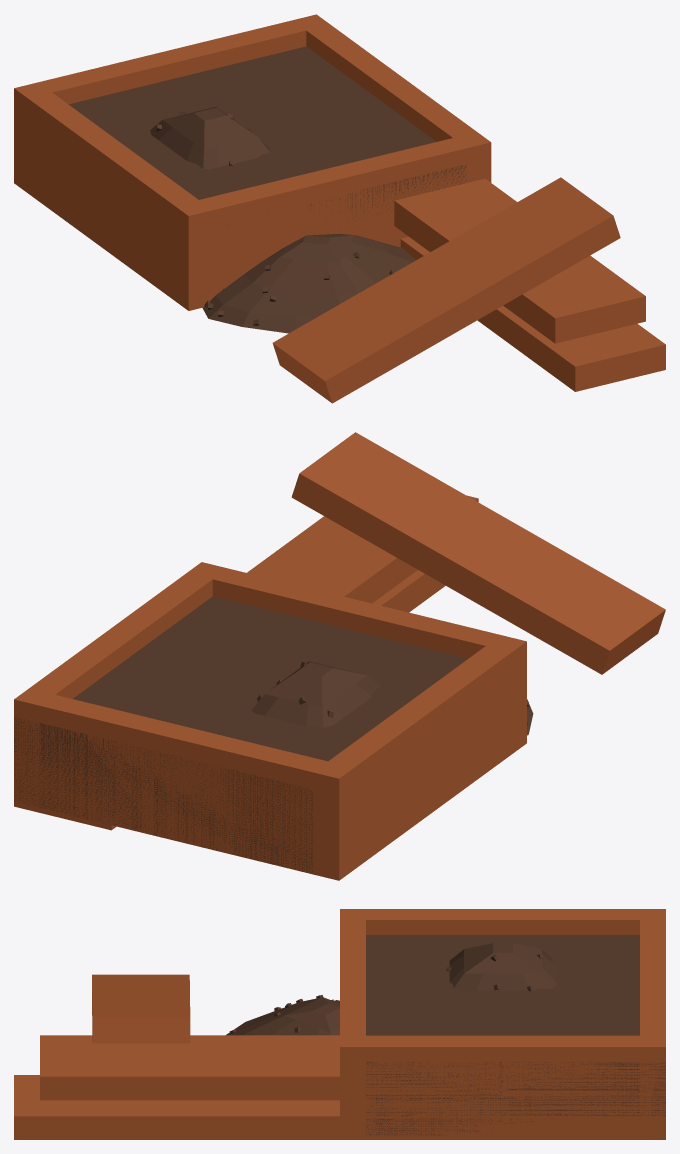
File: RaisedBed.glb
3 renders of one model, top to bottom at view 1: azimuth 30°, elevation 25°; view 2: azimuth 150°, elevation 25°; view 3: azimuth 270°, elevation 25°, orthographic. The views are drawn at different scales.
Parts seen in each view (by area): view 1: Raised Bed O, Raised Bed I Construction, Raised Bed I, Raised Bed U, Raised Bed L; view 2: Raised Bed O, Raised Bed I Construction, Raised Bed I, Raised Bed L; view 3: Raised Bed I Construction, Raised Bed O, Raised Bed L, Raised Bed I, Raised Bed U.
Part boxes in pixels (bbox=[...]): Raised Bed O: bbox=[14, 14, 491, 310]; Raised Bed I Construction: bbox=[150, 106, 665, 403]; Raised Bed I: bbox=[14, 15, 490, 310]; Raised Bed U: bbox=[72, 49, 436, 199]; Raised Bed L: bbox=[14, 16, 372, 236]; Raised Bed O: bbox=[14, 562, 526, 880]; Raised Bed I Construction: bbox=[14, 432, 665, 830]; Raised Bed I: bbox=[14, 562, 526, 880]; Raised Bed L: bbox=[14, 632, 511, 876]; Raised Bed I Construction: bbox=[14, 943, 665, 1139]; Raised Bed O: bbox=[340, 909, 665, 1135]; Raised Bed L: bbox=[366, 909, 665, 1135]; Raised Bed I: bbox=[340, 909, 665, 1135]; Raised Bed U: bbox=[366, 935, 639, 1135].
Size of the model in its own units: 1 by 0.3988 by 2.
